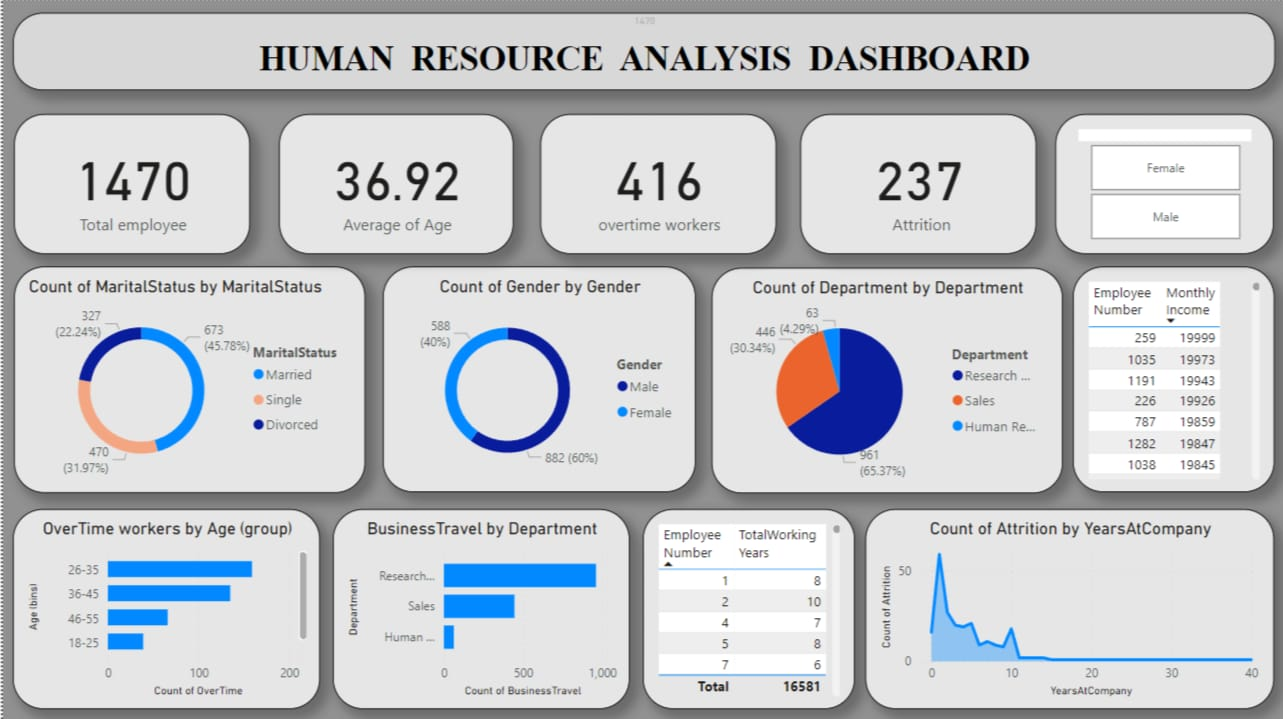

What the dashboard file says about the page in this screenshot:
{"tool":"powerbi","page":{"name":"Page 1","canvas":[1280,720],"ordinal":0},"visuals":[{"type":"card","fields":{"Values":["CountNonNull(HR-Employee-Attrition (2).EmployeeCount)"]},"box":[11.4,114.3,235.7,140],"z":0},{"type":"donutChart","fields":{"Category":["HR-Employee-Attrition (2).MaritalStatus"],"Y":["CountNonNull(HR-Employee-Attrition (2).MaritalStatus)"]},"box":[10.9,266.4,350.9,226.4],"z":1000},{"type":"donutChart","fields":{"Category":["HR-Employee-Attrition (2).Gender"],"Y":["CountNonNull(HR-Employee-Attrition (2).Gender)"]},"box":[380,265.7,312.9,225.7],"z":2000},{"type":"donutChart","fields":{"Category":["HR-Employee-Attrition (2).Department"],"Y":["CountNonNull(HR-Employee-Attrition (2).Department)"]},"box":[708.6,267.1,351.4,225.7],"z":3000},{"type":"barChart","title":"OverTime workers by Age (group)","fields":{"Category":["HR-Employee-Attrition (2).Age (bins)"],"Y":["CountNonNull(HR-Employee-Attrition (2).OverTime)"]},"box":[10,508.6,307.1,200],"z":4000},{"type":"barChart","title":"BusinessTravel by Department","fields":{"Y":["CountNonNull(HR-Employee-Attrition (2).BusinessTravel)"],"Category":["HR-Employee-Attrition (2).Department"]},"box":[330,508.6,297.1,200],"z":5000},{"type":"tableEx","fields":{"Values":["HR-Employee-Attrition (2).EmployeeNumber","Sum(HR-Employee-Attrition (2).TotalWorkingYears)"]},"box":[640,508.2,211.8,200],"z":6000},{"type":"tableEx","fields":{"Values":["HR-Employee-Attrition (2).EmployeeNumber","HR-Employee-Attrition (2).MonthlyIncome"]},"box":[1070,265.7,201.4,225.7],"z":7000},{"type":"card","fields":{"Values":["Avg(HR-Employee-Attrition (2).Age)"]},"box":[275.7,114.3,234.3,140],"z":8000},{"type":"card","fields":{"Values":["CountNonNull(HR-Employee-Attrition (2).OverTime)"]},"box":[537.1,114.3,235.7,140],"z":9000},{"type":"card","fields":{"Values":["CountNonNull(HR-Employee-Attrition (2).Attrition)"]},"box":[797.1,114.3,235.7,140],"z":10000},{"type":"slicer","fields":{"Values":["HR-Employee-Attrition (2).Gender"]},"box":[1052.9,114.3,218.6,140],"z":11000},{"type":"card","fields":{"Values":["CountNonNull(HR-Employee-Attrition (2).EmployeeCount)"]},"box":[9.8,12.3,1262.1,77.3],"z":12000},{"type":"stackedAreaChart","fields":{"Y":["CountNonNull(HR-Employee-Attrition (2).Attrition)"],"Category":["HR-Employee-Attrition (2).YearsAtCompany"]},"box":[862.5,508.8,408.8,200],"z":13000}]}

Visuals, with their boxes in screenshot pixels (x1, y1, x2, y2), scaled from the page's 1280x720 canvas onto the 1283x719 screenshot:
card - CountNonNull(HR-Employee-Attrition (2).EmployeeCount): x1=11, y1=114, x2=248, y2=254
donutChart - HR-Employee-Attrition (2).MaritalStatus x CountNonNull(HR-Employee-Attrition (2).MaritalStatus): x1=11, y1=266, x2=363, y2=492
donutChart - HR-Employee-Attrition (2).Gender x CountNonNull(HR-Employee-Attrition (2).Gender): x1=381, y1=265, x2=695, y2=491
donutChart - HR-Employee-Attrition (2).Department x CountNonNull(HR-Employee-Attrition (2).Department): x1=710, y1=267, x2=1062, y2=492
"OverTime workers by Age (group)" barChart: x1=10, y1=508, x2=318, y2=708
"BusinessTravel by Department" barChart: x1=331, y1=508, x2=629, y2=708
tableEx - HR-Employee-Attrition (2).EmployeeNumber x Sum(HR-Employee-Attrition (2).TotalWorkingYears): x1=642, y1=507, x2=854, y2=707
tableEx - HR-Employee-Attrition (2).EmployeeNumber x HR-Employee-Attrition (2).MonthlyIncome: x1=1073, y1=265, x2=1274, y2=491
card - Avg(HR-Employee-Attrition (2).Age): x1=276, y1=114, x2=511, y2=254
card - CountNonNull(HR-Employee-Attrition (2).OverTime): x1=538, y1=114, x2=775, y2=254
card - CountNonNull(HR-Employee-Attrition (2).Attrition): x1=799, y1=114, x2=1035, y2=254
slicer - HR-Employee-Attrition (2).Gender: x1=1055, y1=114, x2=1274, y2=254
card - CountNonNull(HR-Employee-Attrition (2).EmployeeCount): x1=10, y1=12, x2=1275, y2=89
stackedAreaChart - CountNonNull(HR-Employee-Attrition (2).Attrition) x HR-Employee-Attrition (2).YearsAtCompany: x1=865, y1=508, x2=1274, y2=708
